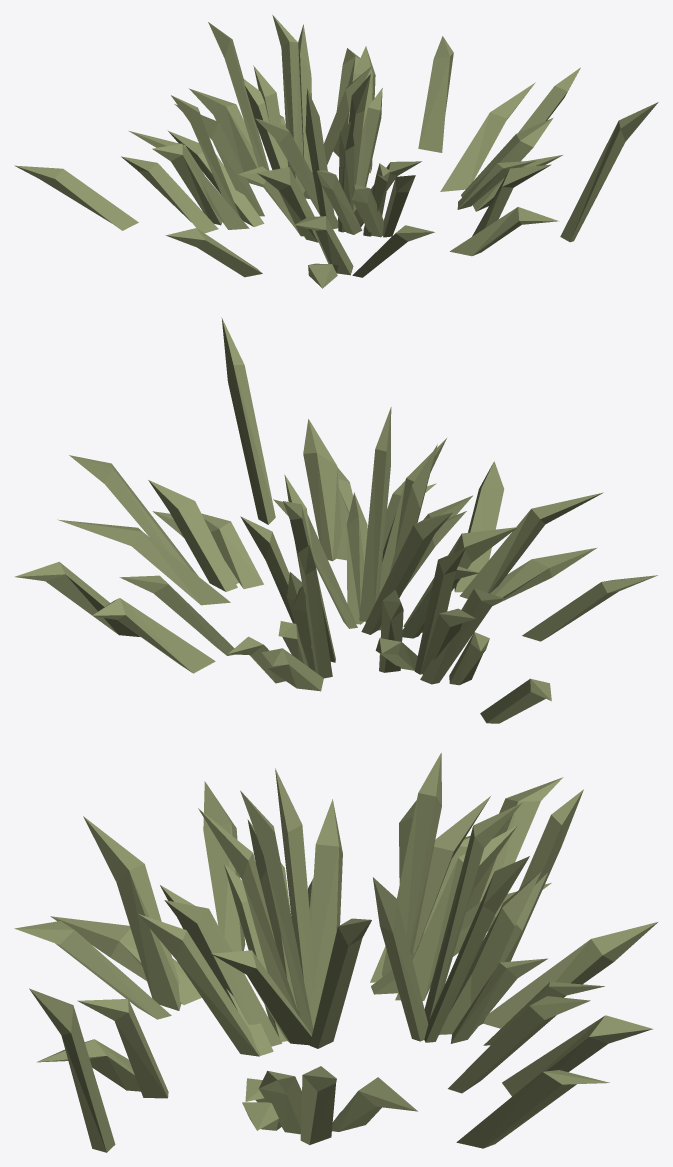
The model's file is SM_Env_Grass_02.fbx.
The picture shows the model from 3 angles, top to bottom: view 1: azimuth 30°, elevation 25°; view 2: azimuth 150°, elevation 25°; view 3: azimuth 270°, elevation 25°; orthographic projection. The views are drawn at different scales.
Visible parts, largest first — view 1: SM_Env_Grass_02; view 2: SM_Env_Grass_02; view 3: SM_Env_Grass_02.
Boxes of the visible parts, box(x1,y1,x2,y2) form: SM_Env_Grass_02: box(14, 15, 658, 288); SM_Env_Grass_02: box(14, 317, 657, 723); SM_Env_Grass_02: box(14, 753, 657, 1152).
Size of the model in its own units: 3 by 0.9841 by 2.31.
